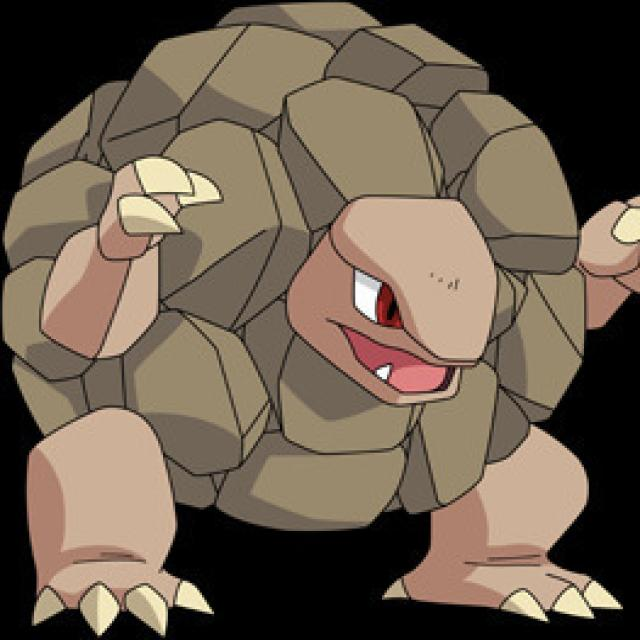Golem: (1, 1, 596, 626)
